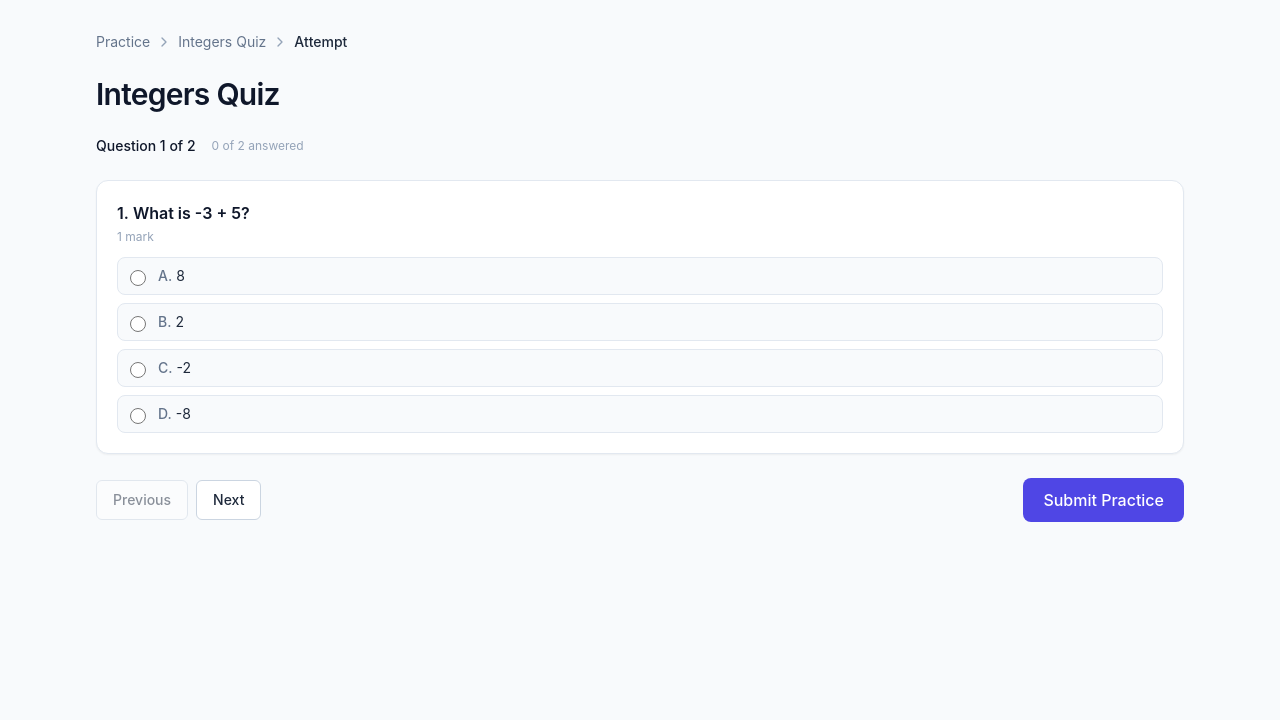
Test: Attempt player (AttemptPage) › asks for confirmation showing the unanswered count; cancel does not submit
Check: the text "What is -3 + 5?" is shown, box [133,203,250,223]
Click the button "Submit Practice" at (1104,500), box [1023,478,1184,522]
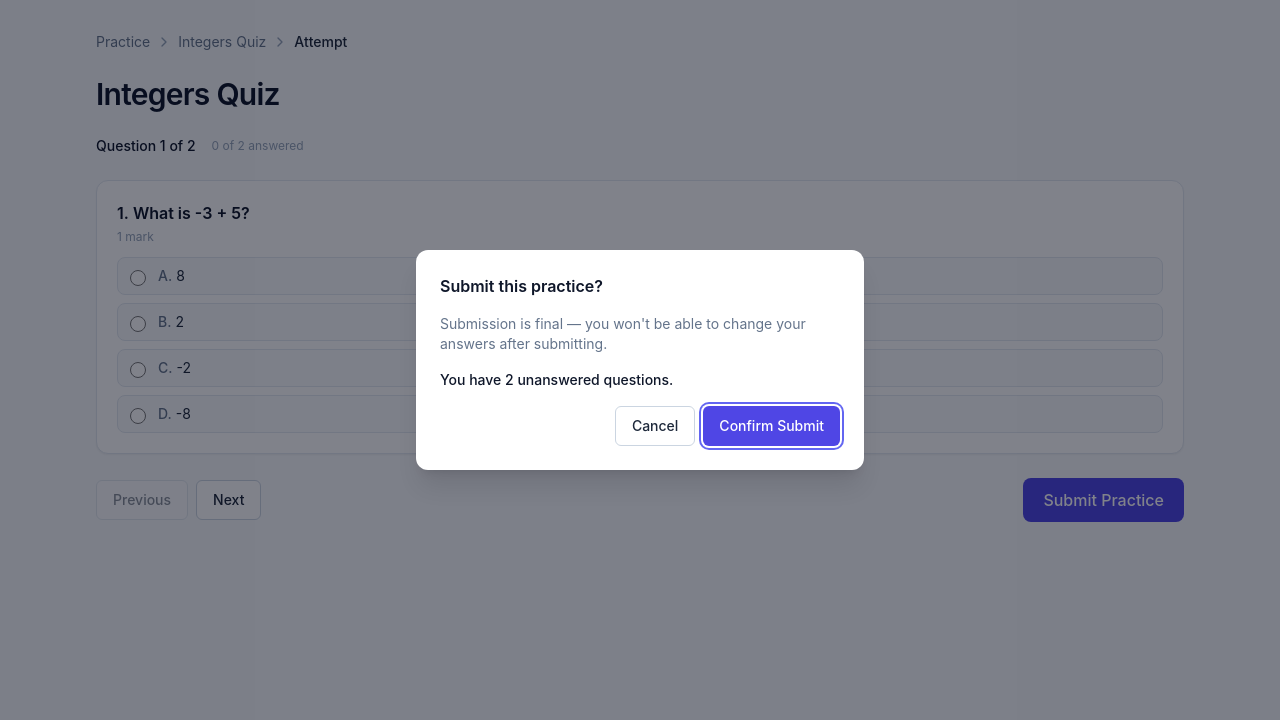
Check: the dialog shows "Submission is final", box [440,315,806,352]
Check: the dialog shows "You have 2 unanswered questions.", box [440,371,673,388]
Click the button "Cancel" at (655,426), box [615,406,695,446]
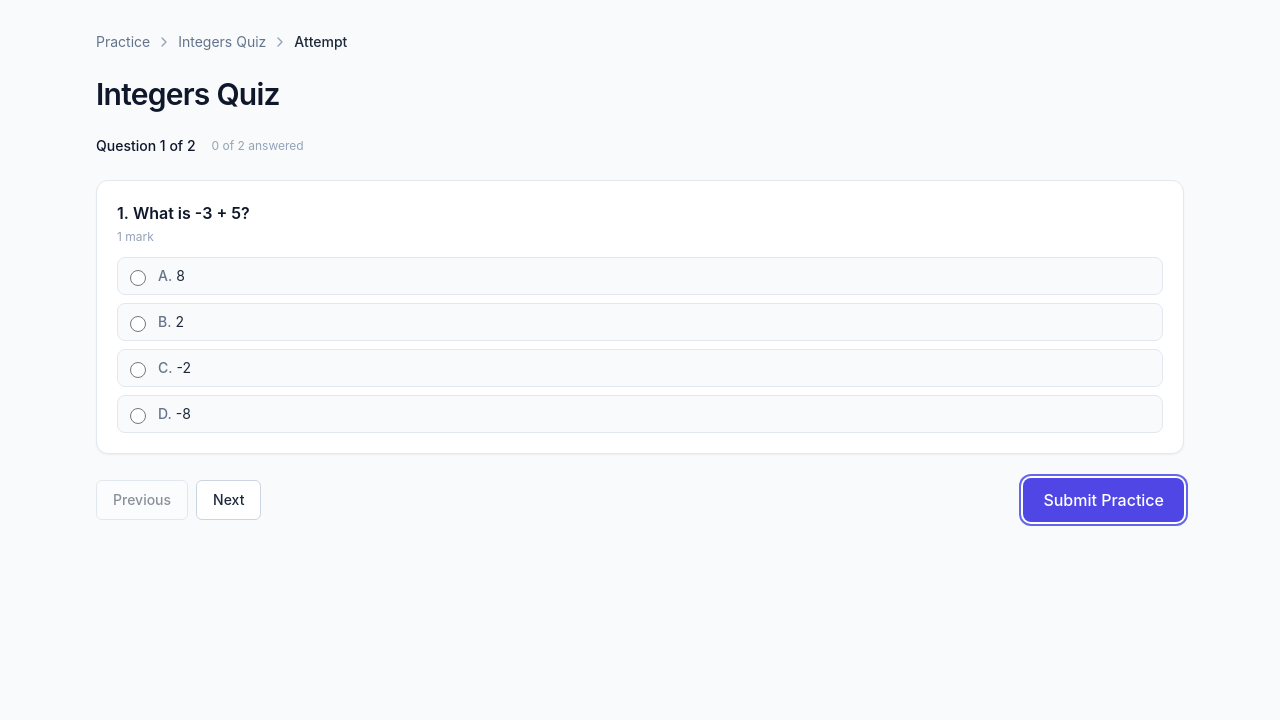
Check: the dialog is gone
